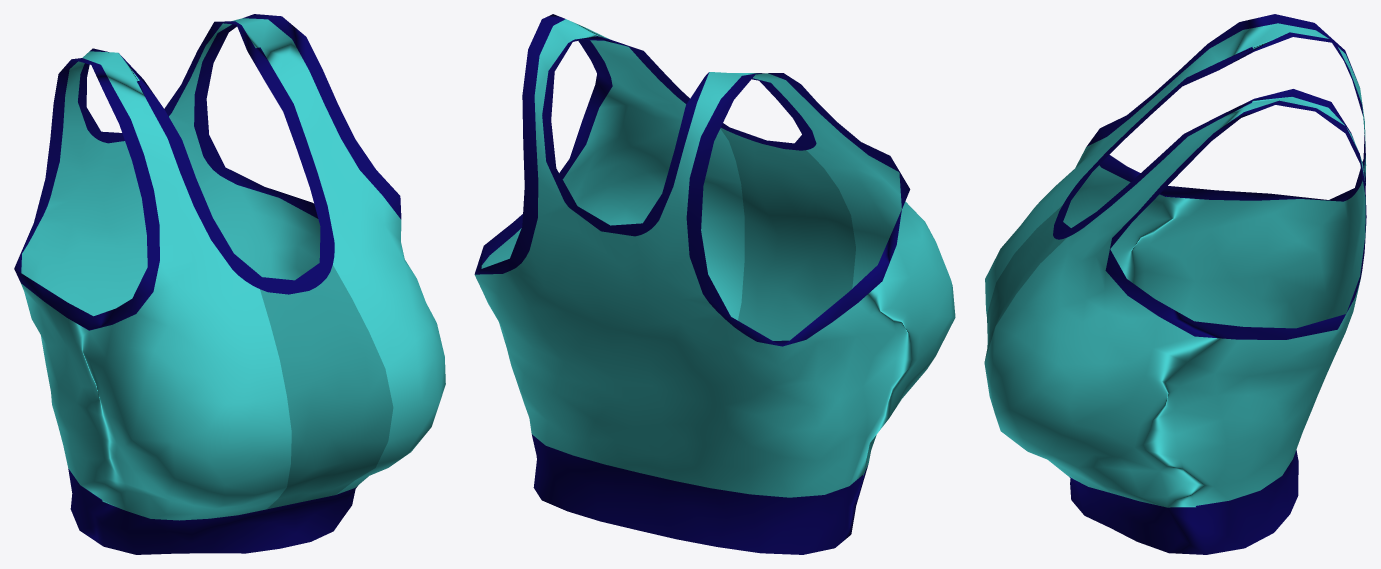
The model's file is Top2.obj.
3 renders of one model, left to right at view 1: azimuth 30°, elevation 25°; view 2: azimuth 150°, elevation 25°; view 3: azimuth 270°, elevation 25°, orthographic. The views are drawn at different scales.
Size of the model in its own units: 0.1955 by 0.2642 by 0.2084.
